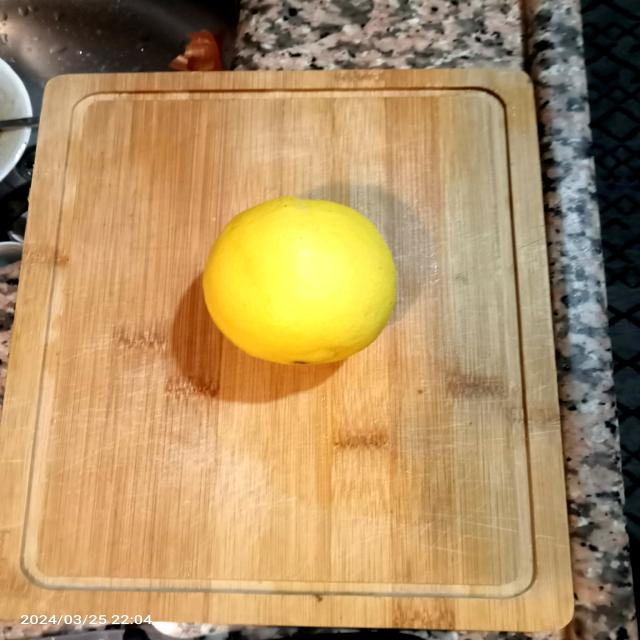lemon: (186, 186, 413, 380)
